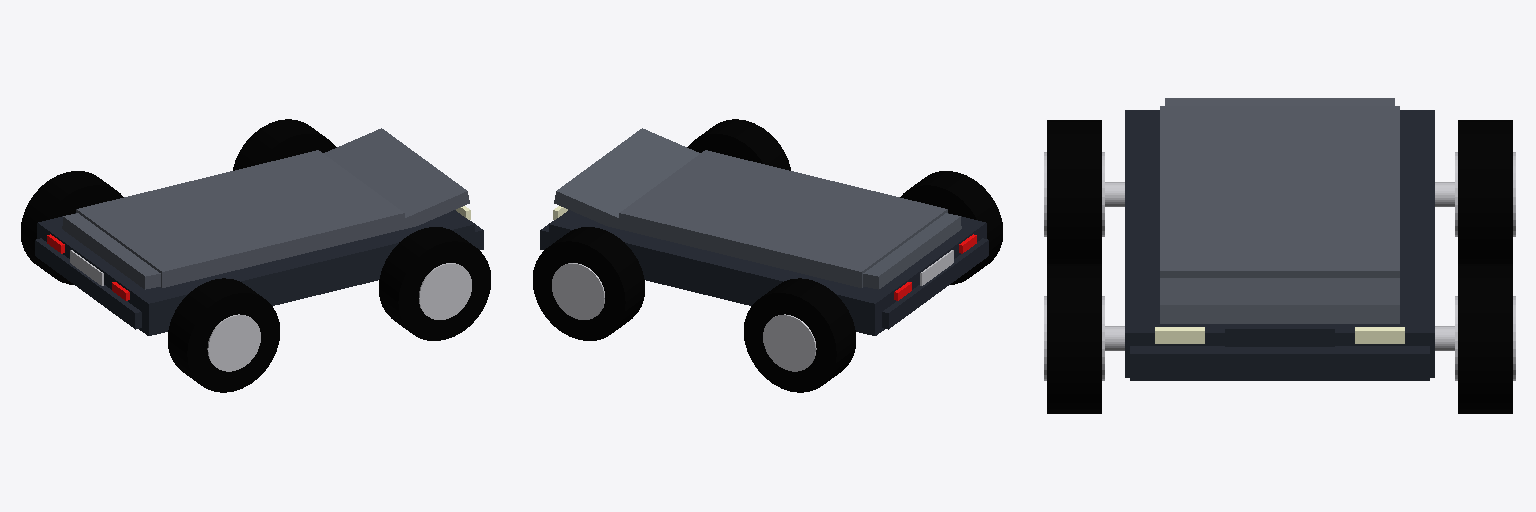
robot.urdf — realistic_vehicle:
<?xml version="1.0"?>
<robot name="realistic_vehicle">

    <!-- ================================================= -->
    <!-- MATERIALS -->
    <!-- ================================================= -->

    <material name="body_main">
        <color rgba="0.38 0.40 0.44 1.0"/>
    </material>

    <material name="body_trim">
        <color rgba="0.18 0.20 0.24 1.0"/>
    </material>

    <material name="tire">
        <color rgba="0.04 0.04 0.04 1.0"/>
    </material>

    <material name="rim">
        <color rgba="0.82 0.82 0.84 1.0"/>
    </material>

    <!-- Front light -->
    <material name="front_light">
        <color rgba="1.0 1.0 0.85 1.0"/>
    </material>

    <!-- Rear light -->
    <material name="rear_light">
        <color rgba="1.0 0.1 0.1 1.0"/>
    </material>

    <!-- ================================================= -->
    <!-- BASE LINK -->
    <!-- ================================================= -->

    <link name="base_link">

        <!-- Main lower chassis -->
        <visual>
            <origin xyz="0 0 0.05" rpy="0 0 0"/>
            <geometry>
                <box size="1.05 0.62 0.10"/>
            </geometry>
            <material name="body_trim"/>
        </visual>

        <!-- Main upper body -->
        <visual>
            <origin xyz="-0.05 0 0.11" rpy="0 0 0"/>
            <geometry>
                <box size="0.78 0.48 0.08"/>
            </geometry>
            <material name="body_main"/>
        </visual>

        <!-- Front hood (longer) -->
        <visual>
            <origin xyz="0.38 0 0.12" rpy="0 -0.18 0"/>
            <geometry>
                <box size="0.34 0.48 0.04"/>
            </geometry>
            <material name="body_main"/>
        </visual>

        <!-- Rear trunk (shorter) -->
        <visual>
            <origin xyz="-0.40 0 0.12" rpy="0 0.04 0"/>
            <geometry>
                <box size="0.18 0.46 0.04"/>
            </geometry>
            <material name="body_main"/>
        </visual>

        <!-- Front bumper -->
        <visual>
            <origin xyz="0.54 0 0.04" rpy="0 0 0"/>
            <geometry>
                <box size="0.04 0.60 0.06"/>
            </geometry>
            <material name="body_trim"/>
        </visual>

        <!-- Rear bumper -->
        <visual>
            <origin xyz="-0.54 0 0.04" rpy="0 0 0"/>
            <geometry>
                <box size="0.02 0.56 0.05"/>
            </geometry>
            <material name="body_trim"/>
        </visual>

        <!-- ================================================= -->
        <!-- FRONT LIGHTS -->
        <!-- ================================================= -->

        <visual>
            <origin xyz="0.54 0.20 0.10" rpy="0 0 0"/>
            <geometry>
                <box size="0.015 0.10 0.03"/>
            </geometry>
            <material name="front_light"/>
        </visual>

        <visual>
            <origin xyz="0.54 -0.20 0.10" rpy="0 0 0"/>
            <geometry>
                <box size="0.015 0.10 0.03"/>
            </geometry>
            <material name="front_light"/>
        </visual>

        <!-- ================================================= -->
        <!-- REAR LIGHTS -->
        <!-- ================================================= -->

        <visual>
            <origin xyz="-0.54 0.18 0.09" rpy="0 0 0"/>
            <geometry>
                <box size="0.012 0.08 0.025"/>
            </geometry>
            <material name="rear_light"/>
        </visual>

        <visual>
            <origin xyz="-0.54 -0.18 0.09" rpy="0 0 0"/>
            <geometry>
                <box size="0.012 0.08 0.025"/>
            </geometry>
            <material name="rear_light"/>
        </visual>

        <!-- Front grill -->
        <visual>
            <origin xyz="0.525 0 0.09" rpy="0 0 0"/>
            <geometry>
                <box size="0.01 0.22 0.04"/>
            </geometry>
            <material name="body_trim"/>
        </visual>

        <!-- Rear plate area -->
        <visual>
            <origin xyz="-0.545 0 0.09" rpy="0 0 0"/>
            <geometry>
                <box size="0.005 0.18 0.04"/>
            </geometry>
            <material name="rim"/>
        </visual>

        <!-- Collision -->
        <collision>
            <origin xyz="0 0 0.09"/>
            <geometry>
                <box size="1.08 0.62 0.18"/>
            </geometry>
        </collision>


        <!-- ================================================= -->
        <!-- WHEEL AXLES -->
        <!-- ================================================= -->

        <!-- Front left axle -->
        <visual>
            <origin xyz="0.34 0.305 0" rpy="1.5708 0 0"/>
            <geometry>
                <cylinder radius="0.025" length="0.21"/>
            </geometry>
            <material name="rim"/>
        </visual>

        <!-- Front right axle -->
        <visual>
            <origin xyz="0.34 -0.305 0" rpy="1.5708 0 0"/>
            <geometry>
                <cylinder radius="0.025" length="0.21"/>
            </geometry>
            <material name="rim"/>
        </visual>

        <!-- Rear left axle -->
        <visual>
            <origin xyz="-0.34 0.305 0" rpy="1.5708 0 0"/>
            <geometry>
                <cylinder radius="0.025" length="0.21"/>
            </geometry>
            <material name="rim"/>
        </visual>

        <!-- Rear right axle -->
        <visual>
            <origin xyz="-0.34 -0.305 0" rpy="1.5708 0 0"/>
            <geometry>
                <cylinder radius="0.025" length="0.21"/>
            </geometry>
            <material name="rim"/>
        </visual>

        <!-- Inertia -->
        <inertial>
            <mass value="38"/>
            <origin xyz="0 0 0.09"/>
            <inertia
                ixx="2.5"
                ixy="0.0"
                ixz="0.0"
                iyy="2.5"
                iyz="0.0"
                izz="2.5"/>
        </inertial>

    </link>

    <!-- ================================================= -->
    <!-- FRONT LEFT WHEEL -->
    <!-- ================================================= -->

    <link name="wheel_fl">

        <visual>
            <origin xyz="0 0 0" rpy="1.5708 0 0"/>
            <geometry>
                <cylinder radius="0.15" length="0.11"/>
            </geometry>
            <material name="tire"/>
        </visual>

        <visual>
            <origin xyz="0 0 0" rpy="1.5708 0 0"/>
            <geometry>
                <cylinder radius="0.085" length="0.12"/>
            </geometry>
            <material name="rim"/>
        </visual>

    </link>

    <joint name="joint_fl" type="continuous">
        <parent link="base_link"/>
        <child link="wheel_fl"/>
        <origin xyz="0.34 0.41 0" rpy="0 0 0"/>
        <axis xyz="0 1 0"/>
    </joint>

    <!-- ================================================= -->
    <!-- FRONT RIGHT WHEEL -->
    <!-- ================================================= -->

    <link name="wheel_fr">

        <visual>
            <origin xyz="0 0 0" rpy="1.5708 0 0"/>
            <geometry>
                <cylinder radius="0.15" length="0.11"/>
            </geometry>
            <material name="tire"/>
        </visual>

        <visual>
            <origin xyz="0 0 0" rpy="1.5708 0 0"/>
            <geometry>
                <cylinder radius="0.085" length="0.12"/>
            </geometry>
            <material name="rim"/>
        </visual>

    </link>

    <joint name="joint_fr" type="continuous">
        <parent link="base_link"/>
        <child link="wheel_fr"/>
        <origin xyz="0.34 -0.41 0" rpy="0 0 0"/>
        <axis xyz="0 1 0"/>
    </joint>

    <!-- ================================================= -->
    <!-- REAR LEFT WHEEL -->
    <!-- ================================================= -->

    <link name="wheel_rl">

        <visual>
            <origin xyz="0 0 0" rpy="1.5708 0 0"/>
            <geometry>
                <cylinder radius="0.15" length="0.11"/>
            </geometry>
            <material name="tire"/>
        </visual>

        <visual>
            <origin xyz="0 0 0" rpy="1.5708 0 0"/>
            <geometry>
                <cylinder radius="0.085" length="0.12"/>
            </geometry>
            <material name="rim"/>
        </visual>

    </link>

    <joint name="joint_rl" type="continuous">
        <parent link="base_link"/>
        <child link="wheel_rl"/>
        <origin xyz="-0.34 0.41 0" rpy="0 0 0"/>
        <axis xyz="0 1 0"/>
    </joint>

    <!-- ================================================= -->
    <!-- REAR RIGHT WHEEL -->
    <!-- ================================================= -->

    <link name="wheel_rr">

        <visual>
            <origin xyz="0 0 0" rpy="1.5708 0 0"/>
            <geometry>
                <cylinder radius="0.15" length="0.11"/>
            </geometry>
            <material name="tire"/>
        </visual>

        <visual>
            <origin xyz="0 0 0" rpy="1.5708 0 0"/>
            <geometry>
                <cylinder radius="0.085" length="0.12"/>
            </geometry>
            <material name="rim"/>
        </visual>

    </link>

    <joint name="joint_rr" type="continuous">
        <parent link="base_link"/>
        <child link="wheel_rr"/>
        <origin xyz="-0.34 -0.41 0" rpy="0 0 0"/>
        <axis xyz="0 1 0"/>
    </joint>

</robot>

--- Facts derived from the render (not from the file) ---
Views: 3 orthographic renders of the robot side by side, from view 1: azimuth 30°, elevation 25°; view 2: azimuth 150°, elevation 25°; view 3: azimuth 270°, elevation 25°.
Robot: realistic_vehicle — 5 links, 4 joints (4 continuous); root link base_link; default pose: all joints at 0.
Links seen in each view (by area): view 1: base_link, wheel_rr, wheel_fr, wheel_rl, wheel_fl; view 2: base_link, wheel_rl, wheel_fl, wheel_rr, wheel_fr; view 3: base_link, wheel_fl, wheel_fr, wheel_rl, wheel_rr.
Link boxes in pixels (x1,y1,x2,y2): base_link: (35,128,483,335); wheel_rr: (168,278,279,392); wheel_fr: (379,227,490,340); wheel_rl: (21,171,123,284); wheel_fl: (233,119,336,170); base_link: (540,128,988,335); wheel_rl: (744,278,855,392); wheel_fl: (533,227,644,340); wheel_rr: (900,171,1002,284); wheel_fr: (687,119,790,170); base_link: (1105,98,1454,380); wheel_fl: (1455,264,1515,413); wheel_fr: (1044,264,1104,413); wheel_rl: (1455,120,1515,263); wheel_rr: (1044,120,1104,263).
Bounding box of the posed robot: 1.11 × 0.94 × 0.3201 m (x, y, z).
Geometry: primitives only (box / cylinder / sphere), no mesh files.
